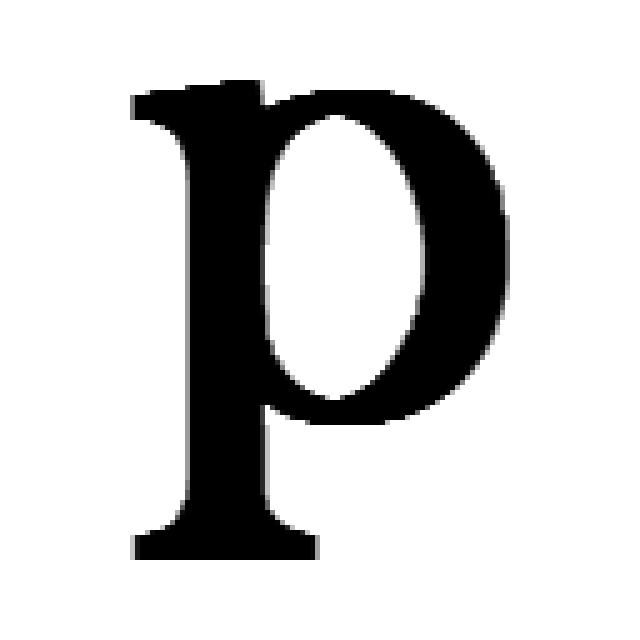P: (125, 80, 510, 565), (130, 80, 510, 565)
